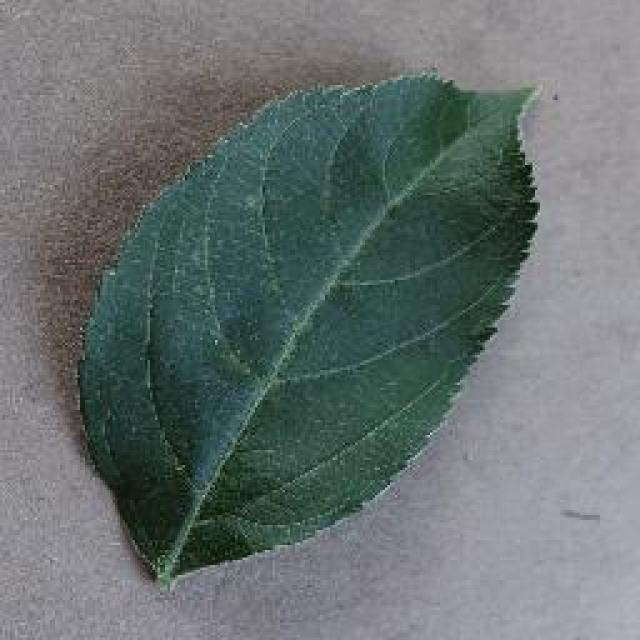apple healthy: (73, 65, 545, 590)
